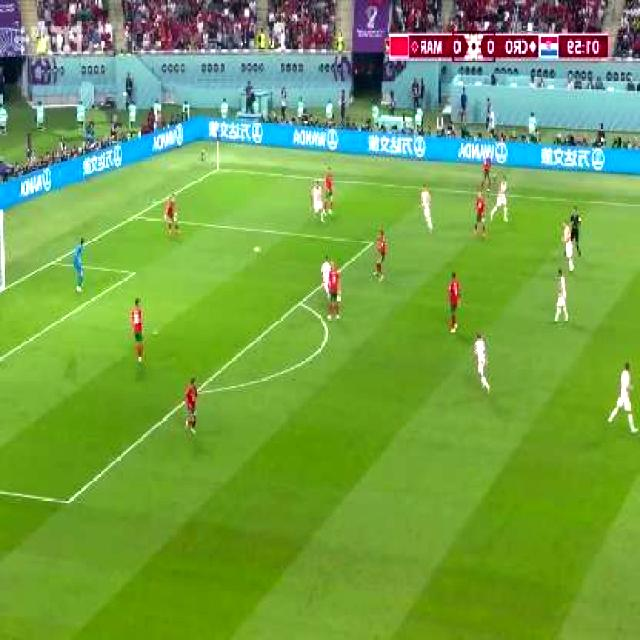bigarea_bottom_inner: (58, 486, 78, 516)
bigarea_top_inner: (366, 232, 382, 251)
bigarea_top_outter: (129, 206, 143, 225)
bottom_arc_area_intersection: (192, 382, 206, 400)
corner: (210, 162, 228, 176)
smallarea_top_inner: (128, 262, 143, 282)
smallarea_top_outter: (46, 252, 63, 271)
top_arc_area_intersection: (294, 292, 309, 311)
